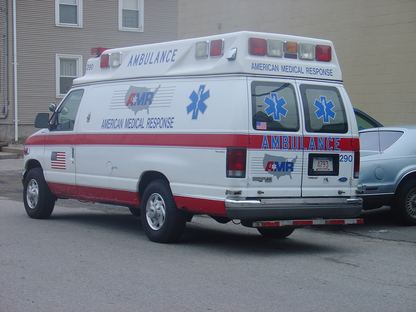ambulance: (20, 30, 364, 244)
